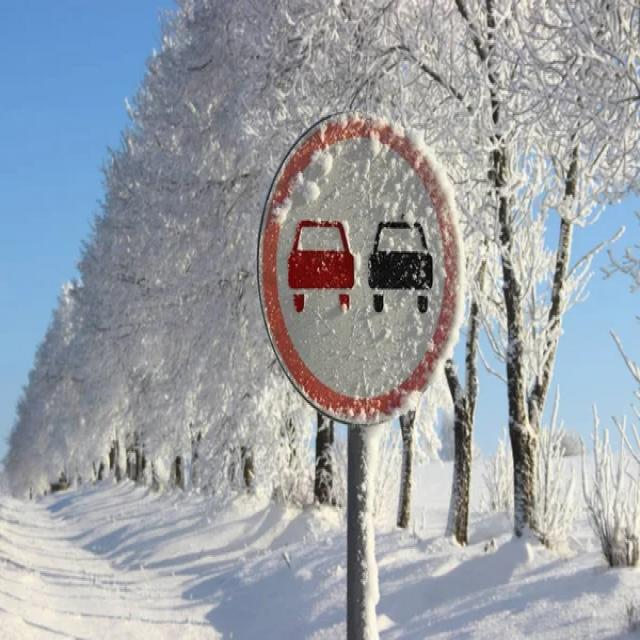no overtaking: (252, 106, 470, 436)
